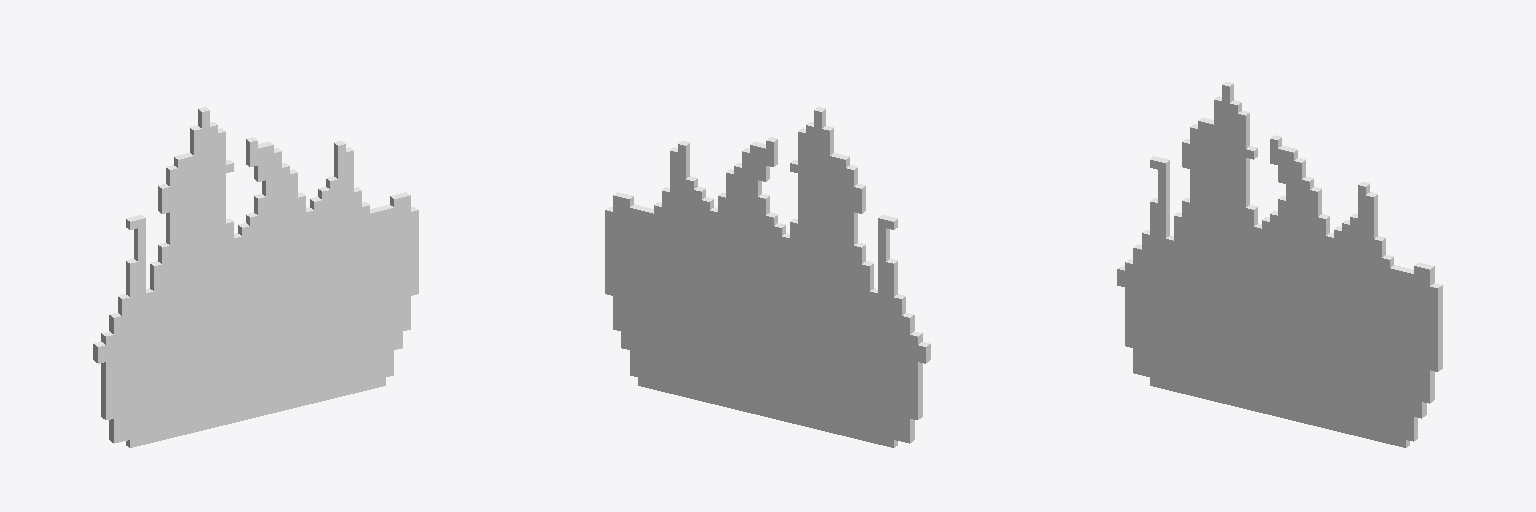
File: Fire1.obj
The picture shows the model from 3 angles: view 1: azimuth 30°, elevation 25°; view 2: azimuth 150°, elevation 25°; view 3: azimuth 330°, elevation 25°; orthographic projection.
Parts seen in each view (by area): view 1: object 1; view 2: object 1; view 3: object 1.
Boxes of the visible parts, box(x1,y1,x2,y2) form: object 1: box(93, 107, 418, 447); object 1: box(605, 107, 930, 447); object 1: box(1117, 81, 1442, 447).
Size of the model in its own units: 4 by 3.8 by 0.1.